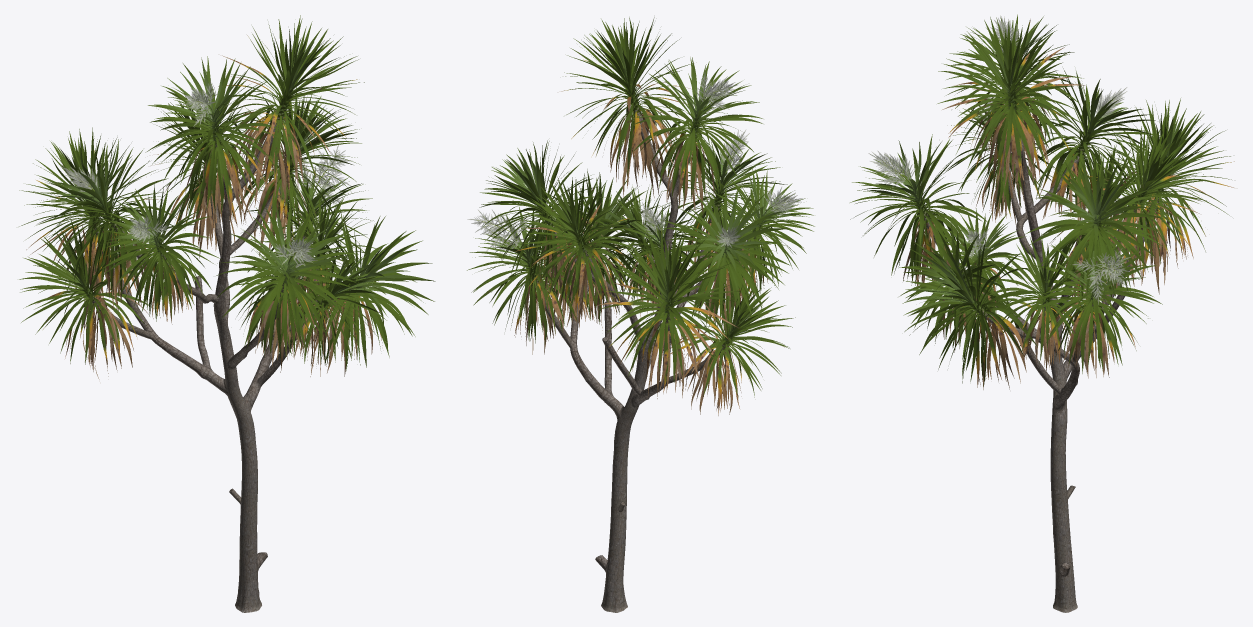
Rendered from cordyline-australis.glb.
3 views of the same model, side by side, from view 1: azimuth 30°, elevation 25°; view 2: azimuth 150°, elevation 25°; view 3: azimuth 270°, elevation 25° (orthographic). The views are drawn at different scales.
Parts seen in each view (by area): view 1: Cordyline_australis_HD; view 2: Cordyline_australis_HD; view 3: Cordyline_australis_HD.
Part boxes in pixels (x1,y1,x2,y2): Cordyline_australis_HD: [19, 15, 435, 612]; Cordyline_australis_HD: [467, 17, 814, 612]; Cordyline_australis_HD: [850, 14, 1234, 612].
Size of the model in its own units: 2.38 by 3.99 by 2.42.
Materials: 10 (10 with a texture image).
